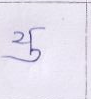u_matra: (8, 48, 41, 64)
